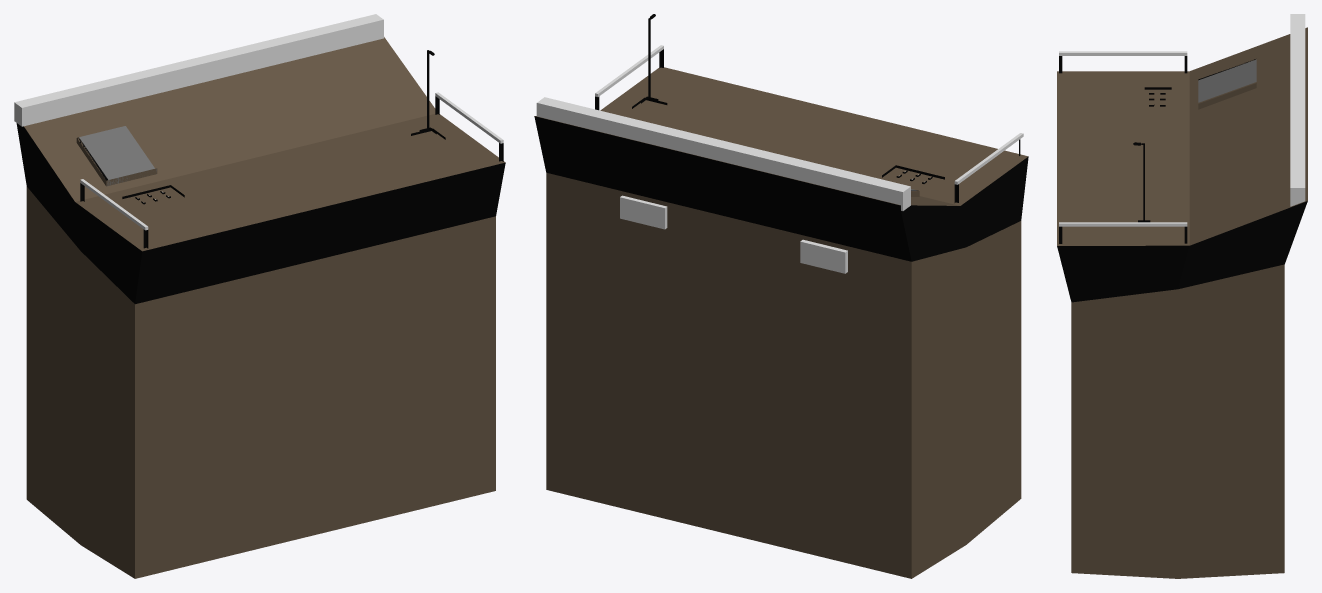
The picture shows the model from 3 angles, left to right: view 1: azimuth 30°, elevation 25°; view 2: azimuth 150°, elevation 25°; view 3: azimuth 270°, elevation 25°; orthographic projection. The views are drawn at different scales.
Visible parts, largest first — view 1: 立方体; view 2: 立方体; view 3: 立方体.
Part boxes in pixels (left/top/right/bottom): 立方体: left=14, top=14, right=505, bottom=578; 立方体: left=534, top=14, right=1028, bottom=578; 立方体: left=1057, top=14, right=1307, bottom=578.
Bounding box in the file's own units: 2680 × 2999 × 1618.
